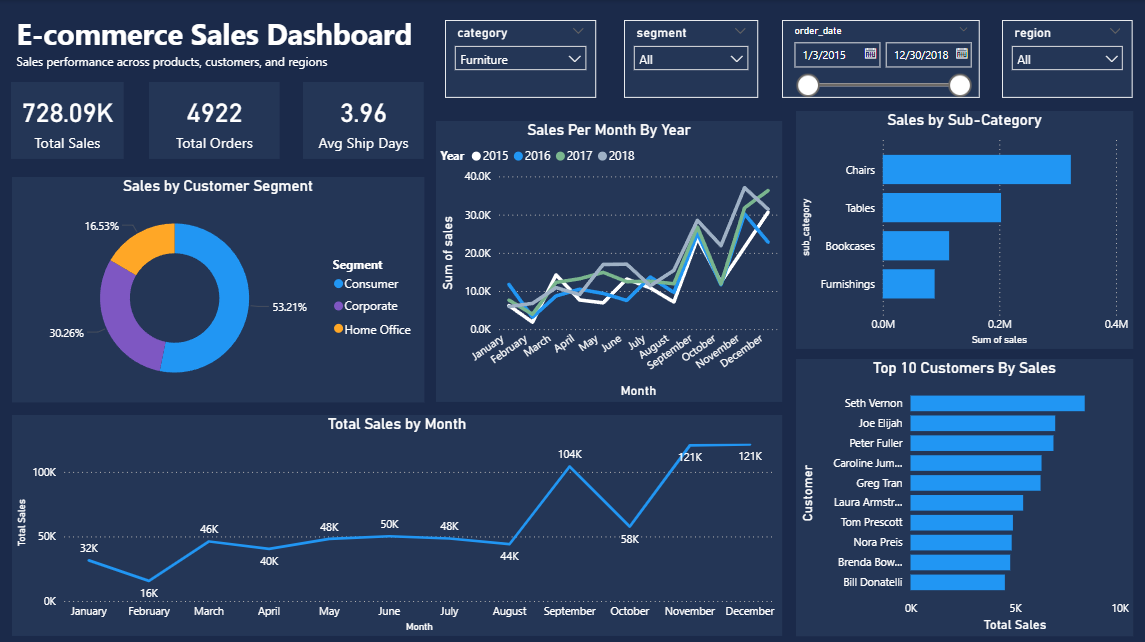

The dashboard page shown, as its layout file describes it:
{"tool":"powerbi","page":{"name":"Page 1","canvas":[1280,720],"ordinal":0},"visuals":[{"type":"card","fields":{"Values":["public orders.Avg Ship Days"]},"box":[338.9,91.9,135.3,85.8],"z":0,"group":"g1"},{"type":"lineChart","fields":{"Y":["public order_items.Total Sales"],"Category":["public orders.order_date.Variation.Date Hierarchy.Month"]},"box":[13.4,463.9,860.8,247.1],"z":0},{"type":"card","fields":{"Values":["public order_items.Total Sales"]},"box":[12.8,91.9,126.2,85.8],"z":1000,"group":"g1"},{"type":"textbox","box":[13.1,10.1,473.4,55.5],"z":2000},{"type":"card","fields":{"Values":["public orders.Total Orders"]},"box":[167.2,91.9,146.4,85.8],"z":2000,"group":"g1"},{"type":"textbox","box":[13.4,54.8,362.2,36.9],"z":3000},{"type":"group","id":"g1","title":"Group 1","box":[12.8,91.9,462,86.1],"z":4000},{"type":"slicer","fields":{"Values":["public orders.order_date"]},"box":[874.2,22.4,221.3,87.2],"z":5000},{"type":"slicer","fields":{"Values":["public customers.segment"]},"box":[697.6,22.4,149.8,87.2],"z":6000},{"type":"slicer","fields":{"Values":["public products.category"]},"box":[497.5,22.4,168.8,87.2],"z":7000},{"type":"slicer","fields":{"Values":["public locations.region"]},"box":[1120.1,22.4,146.4,87.2],"z":8000},{"type":"donutChart","title":"Sales by Customer Segment","fields":{"Category":["public customers.segment"],"Y":["Sum(public order_items.sales)"]},"box":[13.4,197.9,460.6,251.5],"z":8001},{"type":"clusteredBarChart","title":"Top 10 Customers By Sales","fields":{"Category":["public customers.customer_name"],"Y":["Sum(public order_items.sales)"]},"box":[889.9,401.3,376.7,309.7],"z":8002},{"type":"lineChart","title":"Sales Per Month By Year","fields":{"Series":["public orders.Year"],"Y":["Sum(public order_items.sales)"],"Category":["public orders.order_date.Variation.Date Hierarchy.Month"]},"box":[487.4,135.3,386.8,314.1],"z":8003},{"type":"clusteredBarChart","title":"Sales by Sub-Category","fields":{"Category":["public products.sub_category"],"Y":["Sum(public order_items.sales)"]},"box":[889.9,124.1,376.7,266.1],"z":8004}]}

Visuals, with their boxes in screenshot pixels (x1, y1, x2, y2), scaled from the page's 1280x720 canvas onto the 1145x642 screenshot:
card - public orders.Avg Ship Days: bbox=[303, 82, 424, 158]
lineChart - public order_items.Total Sales x public orders.order_date.Variation.Date Hierarchy.Month: bbox=[12, 414, 782, 634]
card - public order_items.Total Sales: bbox=[11, 82, 124, 158]
textbox: bbox=[12, 9, 435, 58]
card - public orders.Total Orders: bbox=[150, 82, 281, 158]
textbox: bbox=[12, 49, 336, 82]
"Group 1" group: bbox=[11, 82, 425, 159]
slicer - public orders.order_date: bbox=[782, 20, 980, 98]
slicer - public customers.segment: bbox=[624, 20, 758, 98]
slicer - public products.category: bbox=[445, 20, 596, 98]
slicer - public locations.region: bbox=[1002, 20, 1133, 98]
"Sales by Customer Segment" donutChart: bbox=[12, 176, 424, 401]
"Top 10 Customers By Sales" clusteredBarChart: bbox=[796, 358, 1133, 634]
"Sales Per Month By Year" lineChart: bbox=[436, 121, 782, 401]
"Sales by Sub-Category" clusteredBarChart: bbox=[796, 111, 1133, 348]
